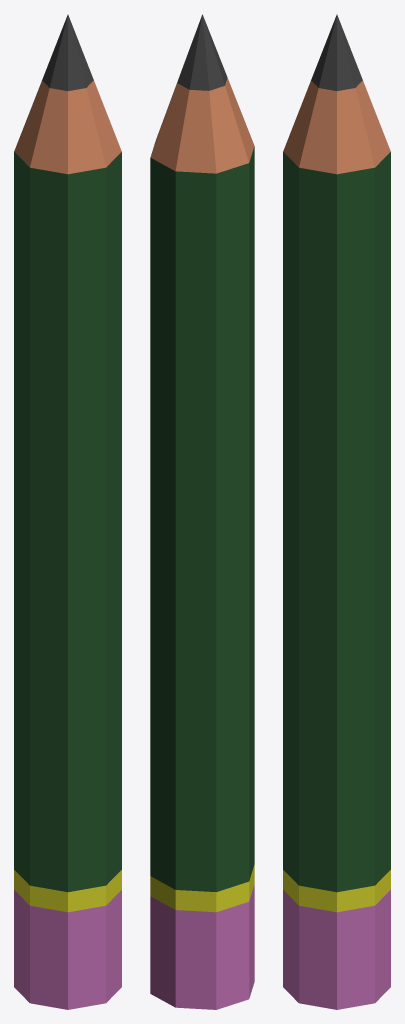
Rendered from Crayon.fbx.
The picture shows the model from 3 angles, left to right: view 1: azimuth 90°, elevation 25°; view 2: azimuth 150°, elevation 25°; view 3: azimuth 270°, elevation 25°; orthographic projection.
Parts seen in each view (by area): view 1: Cylinder; view 2: Cylinder; view 3: Cylinder.
Boxes of the visible parts, x1,y1,x2,y2 form: Cylinder: [14, 14, 121, 1009]; Cylinder: [150, 14, 254, 1009]; Cylinder: [283, 14, 390, 1009].
Bounding box in the file's own units: 200 × 1993 × 200.
